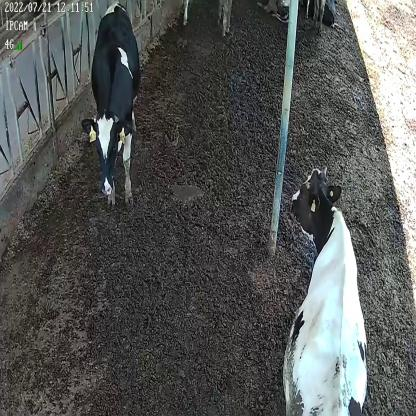cow: (278, 159, 368, 416), (81, 0, 140, 205)
